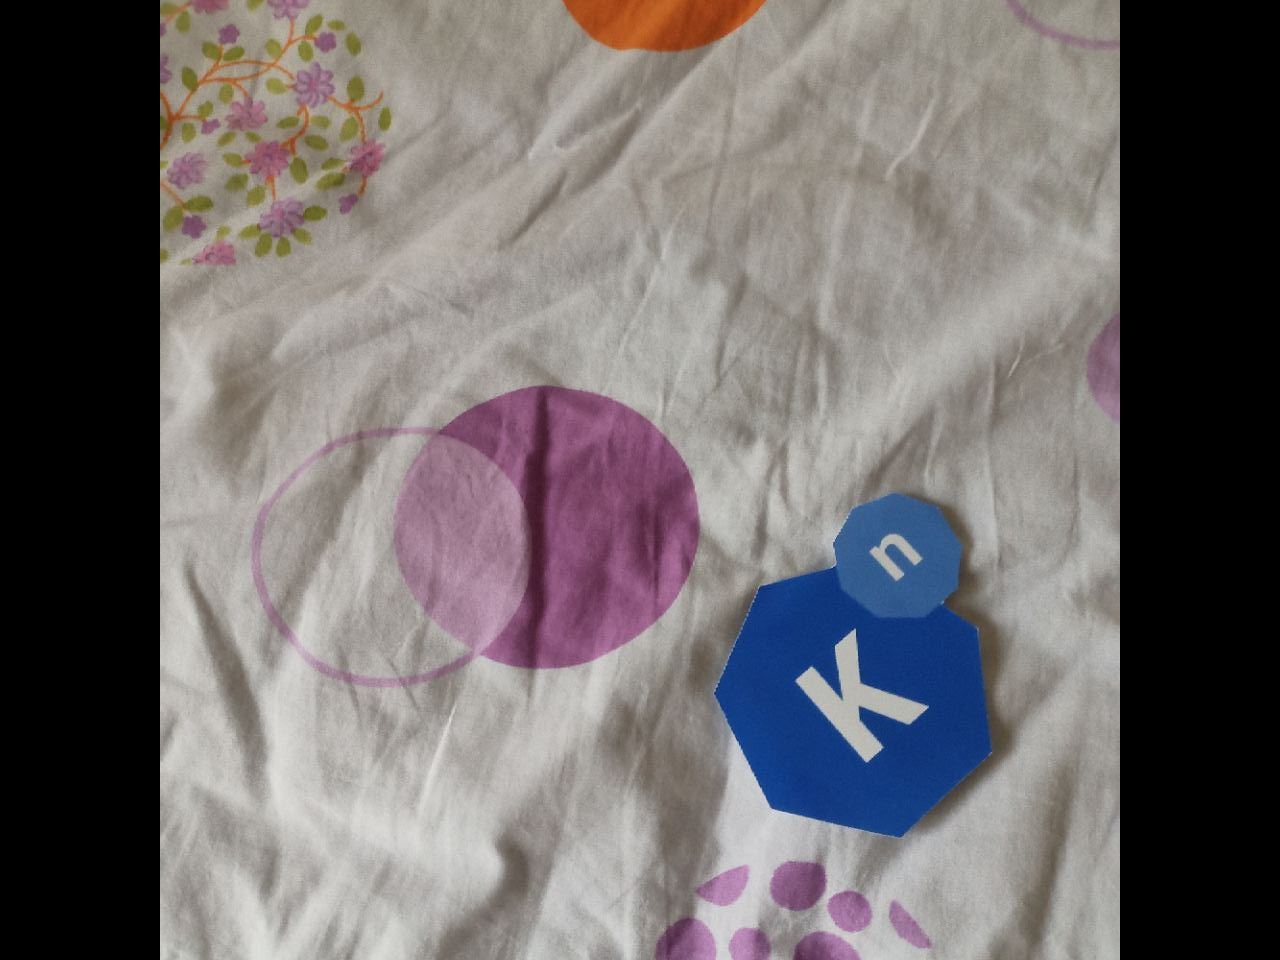knative: (713, 492, 993, 838)
